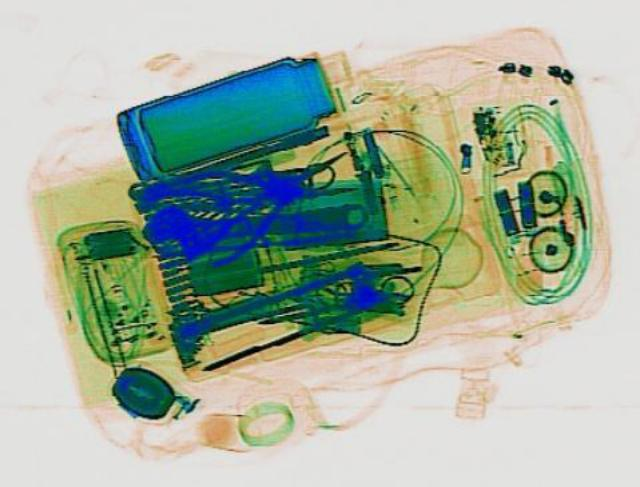Pliers: (138, 122, 386, 271)
